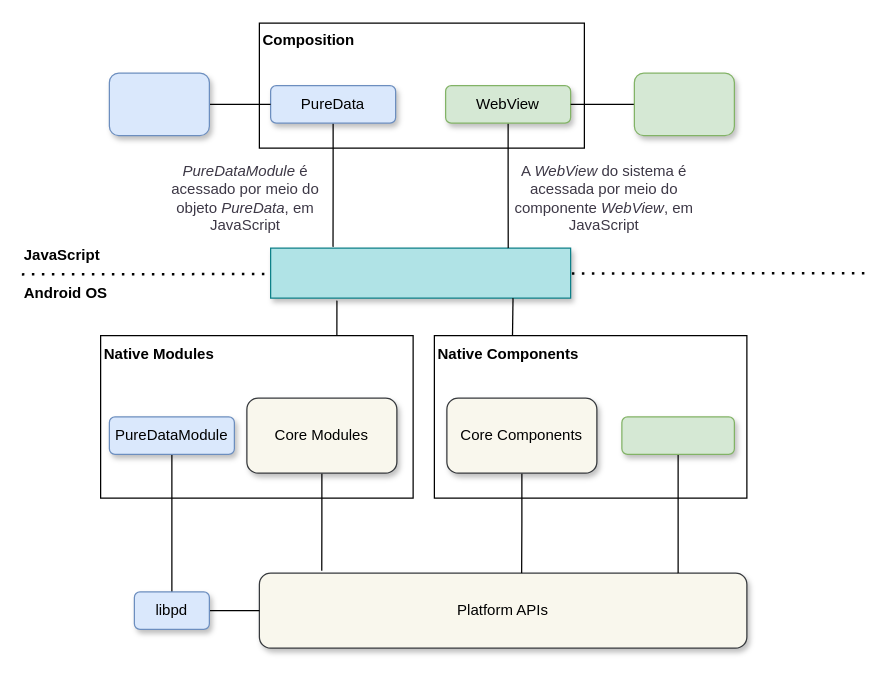
Some shapes in this 896 by 679 pixel diagram are drawn without their labels. Each missing label, with the centre of its shape:
Bridge: the point at 421,274
Patch (pd): the point at 160,105
RTNWebview: the point at 679,437
Sketch (p5.js): the point at 685,105
